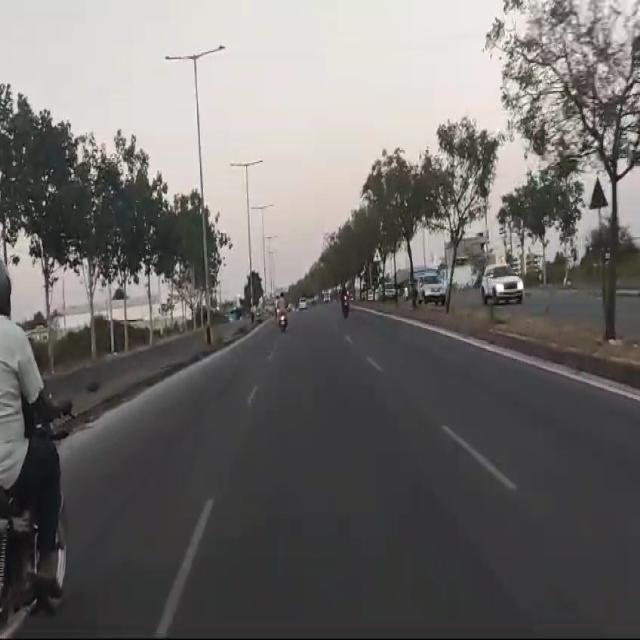bien_cam: (372, 244, 382, 263)
